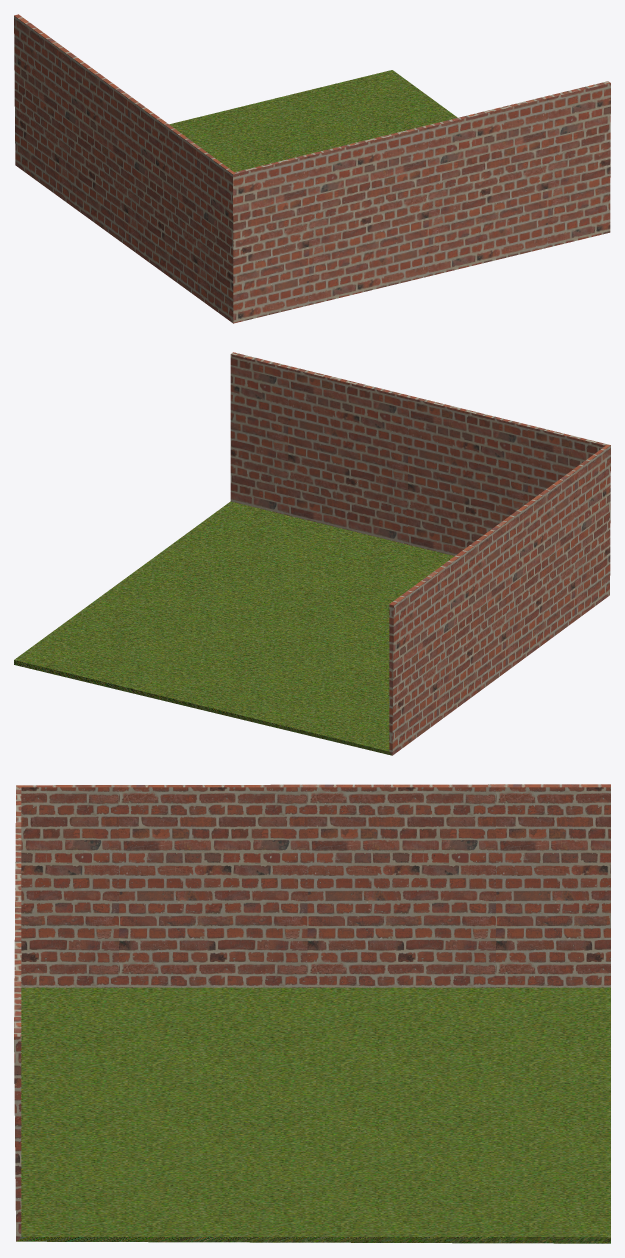
Rendered from scene_gotowe.obj.
3 views of the same model, one above another, from view 1: azimuth 30°, elevation 25°; view 2: azimuth 150°, elevation 25°; view 3: azimuth 270°, elevation 25° (orthographic). The views are drawn at different scales.
Parts seen in each view (by area): view 1: Plane; view 2: Plane; view 3: Plane.
Boxes of the visible parts, x1,y1,x2,y2 form: Plane: (14,14,610,323); Plane: (14,352,610,755); Plane: (14,784,610,1243).
Size of the model in its own units: 8.1 by 3.1 by 8.1.
2 materials, 2 textured.
